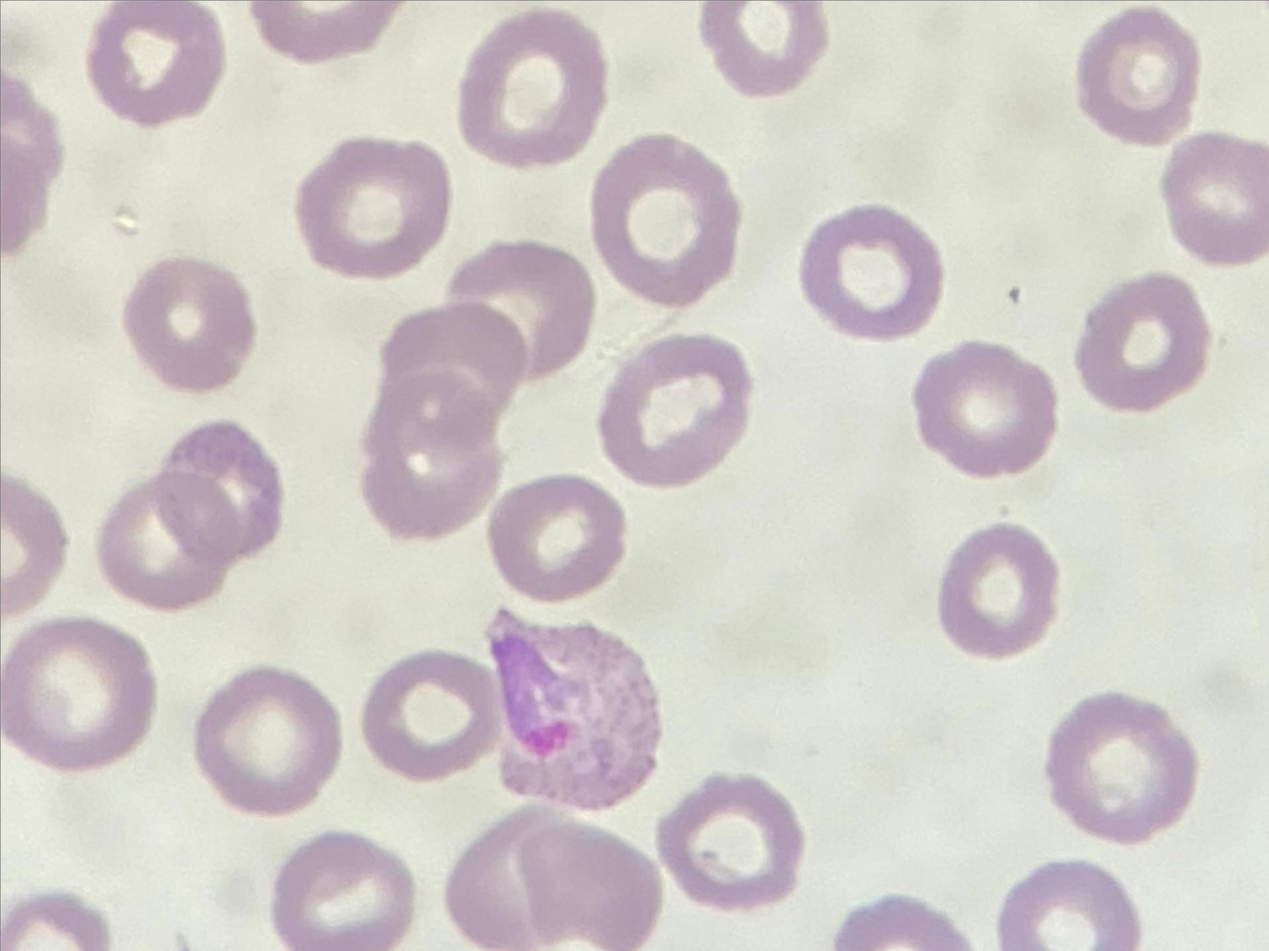Infected: (480, 609, 667, 813)
Uninfected: (593, 133, 737, 304), (0, 622, 157, 774), (361, 377, 504, 542), (599, 336, 749, 492), (192, 668, 342, 815), (297, 133, 454, 273), (458, 10, 601, 157), (1044, 697, 1191, 838), (377, 305, 533, 437), (447, 241, 596, 377), (798, 201, 943, 337), (1073, 267, 1213, 406), (366, 644, 507, 778), (447, 803, 573, 949), (652, 776, 800, 900), (518, 820, 658, 951), (1071, 5, 1201, 145), (86, 0, 229, 127), (128, 252, 261, 387), (97, 470, 235, 599), (934, 523, 1060, 664), (278, 825, 416, 951), (923, 349, 1057, 478), (485, 472, 624, 596), (159, 419, 278, 555), (1168, 124, 1269, 273), (706, 0, 833, 106)
